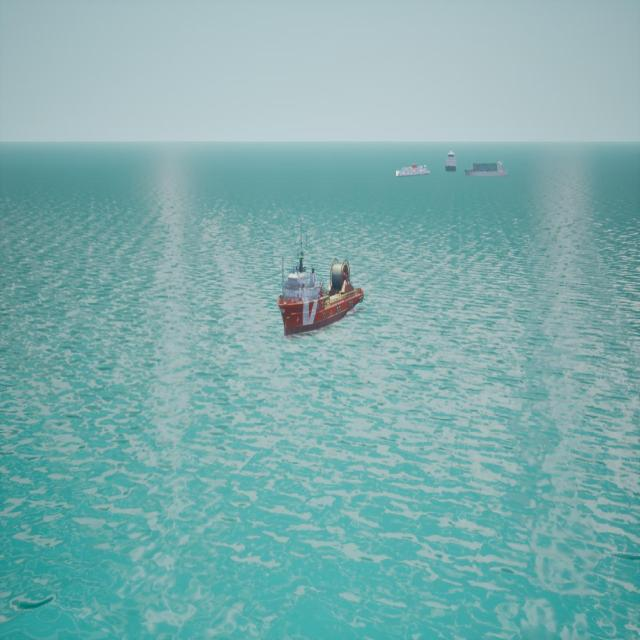tug boat: (271, 255, 368, 338)
